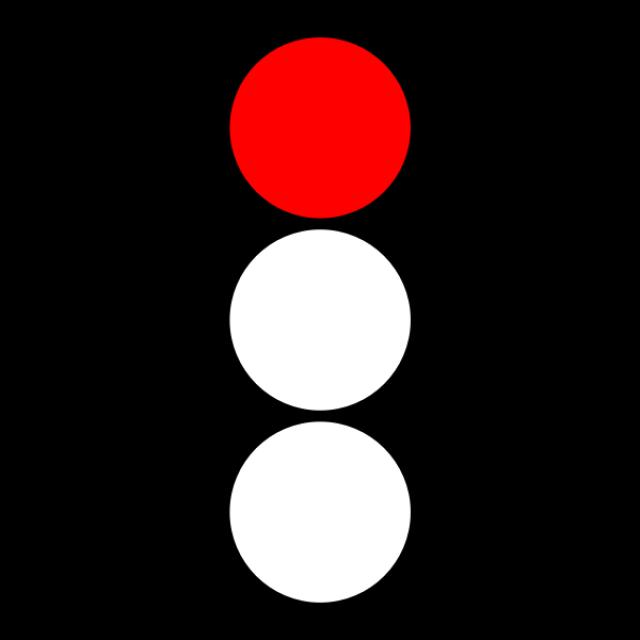red: (199, 47, 426, 240)
